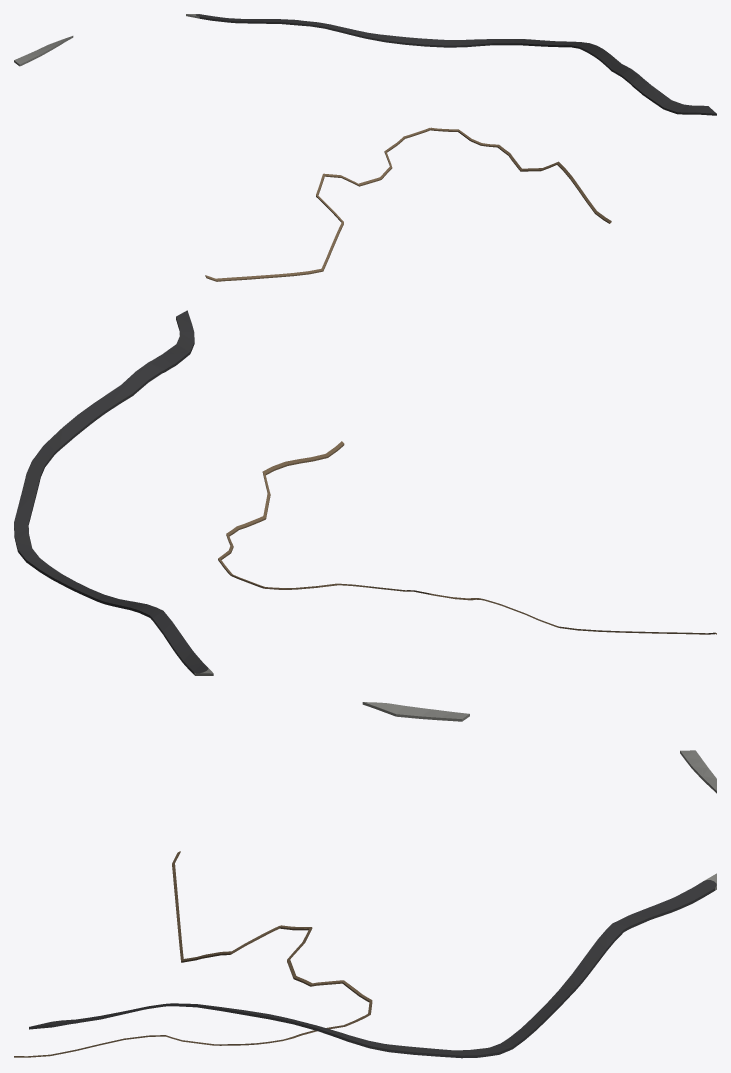
The picture shows the model from 3 angles, top to bottom: view 1: azimuth 30°, elevation 25°; view 2: azimuth 150°, elevation 25°; view 3: azimuth 270°, elevation 25°; orthographic projection. The views are drawn at different scales.
Size of the model in its own units: 293 by 75.48 by 292.
